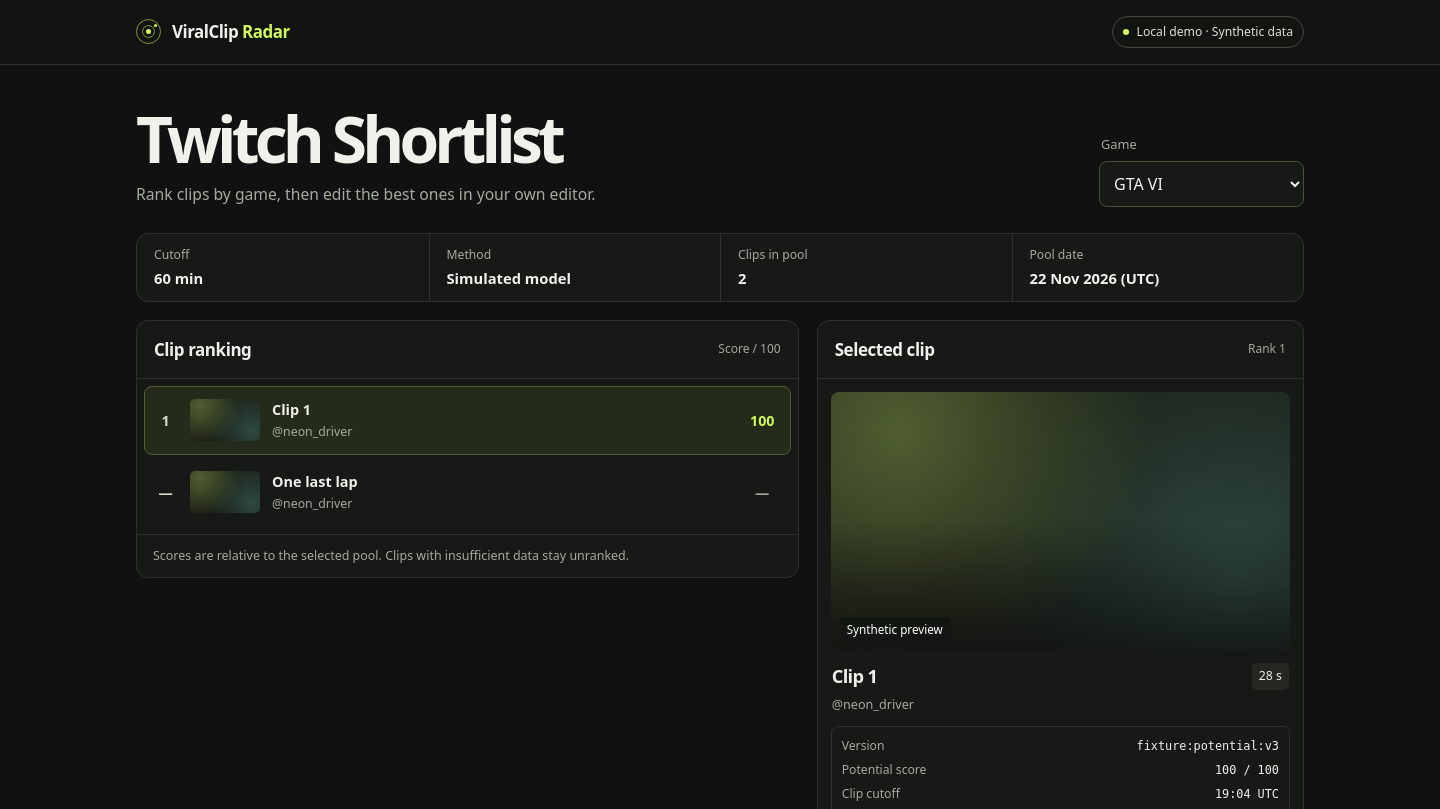
Test: Twitch Shortlist › loads another game and labels a baseline as a baseline
The width and height of the screenshot is (1440, 809).
Expected: the text "Simulated model" is shown, [446,268,571,288]
Select "GTA V" in the dropdown labelled "Game" at [1202, 184], box [1099,160,1304,206]
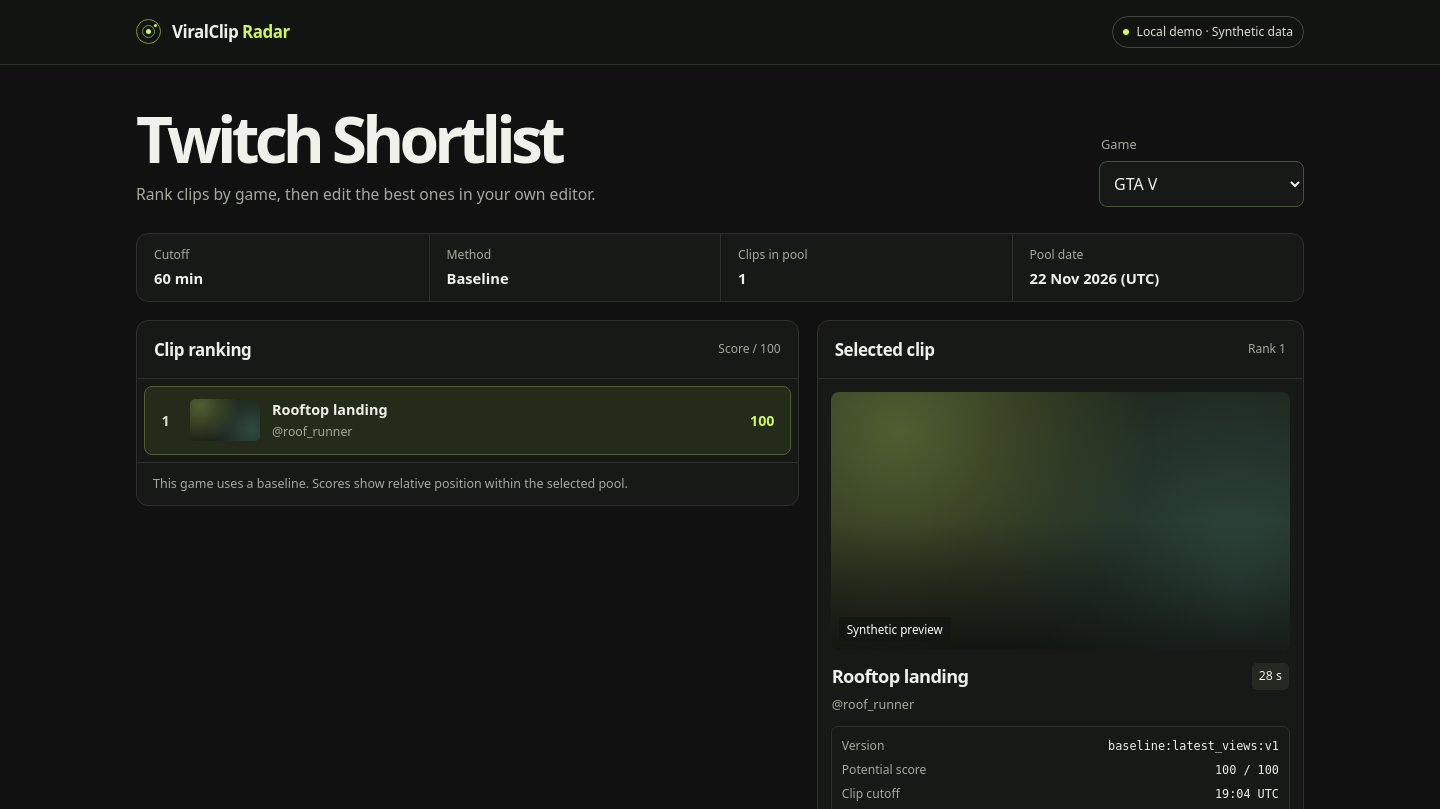
Expected: the text "Baseline" is shown, [446,268,509,288]
Expected: the heading "Rooftop landing" is shown, [832,663,968,690]
